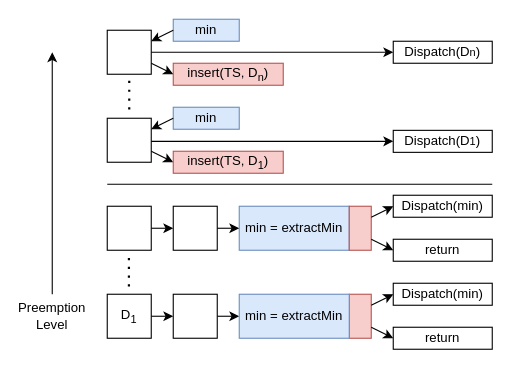
Image size: 513x369. Some labels were removed from this diagram. Here are the shapes that lost their labels. From the top down, the centre of each, then its label:
point 128,51: A n
point 128,139: A 1
point 128,227: D n
point 194,227: J n
point 194,315: J 1
